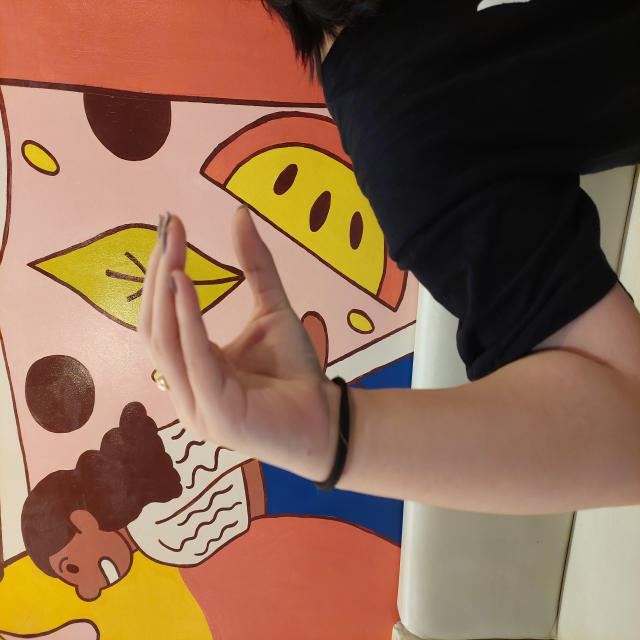C: (74, 155, 369, 525)
